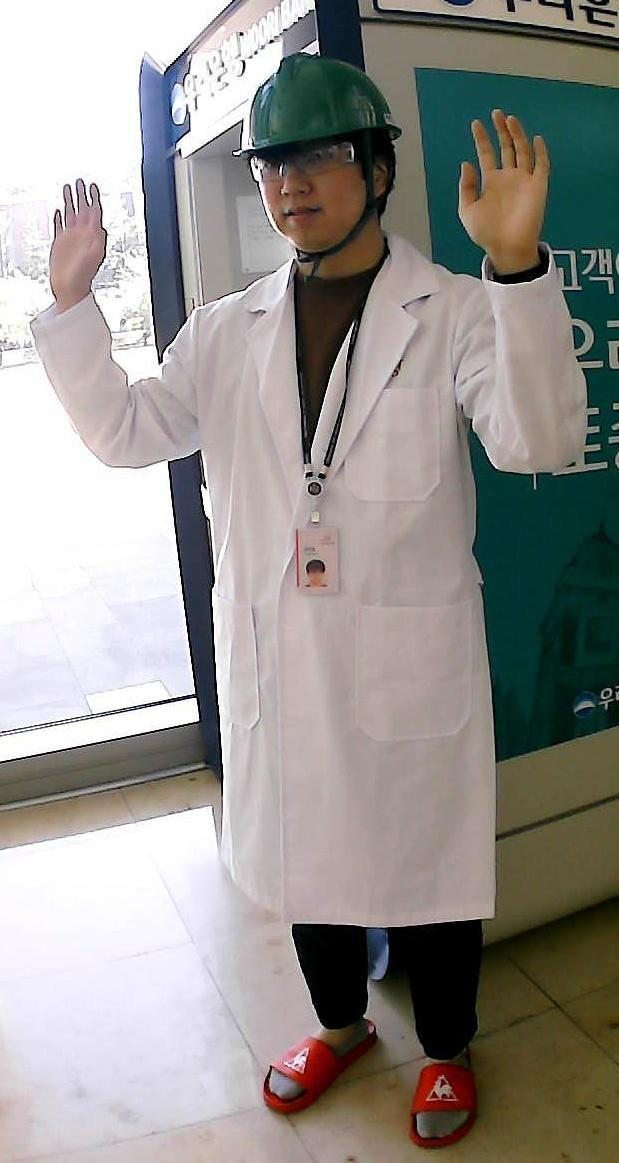lab_coat: (193, 270, 490, 919)
